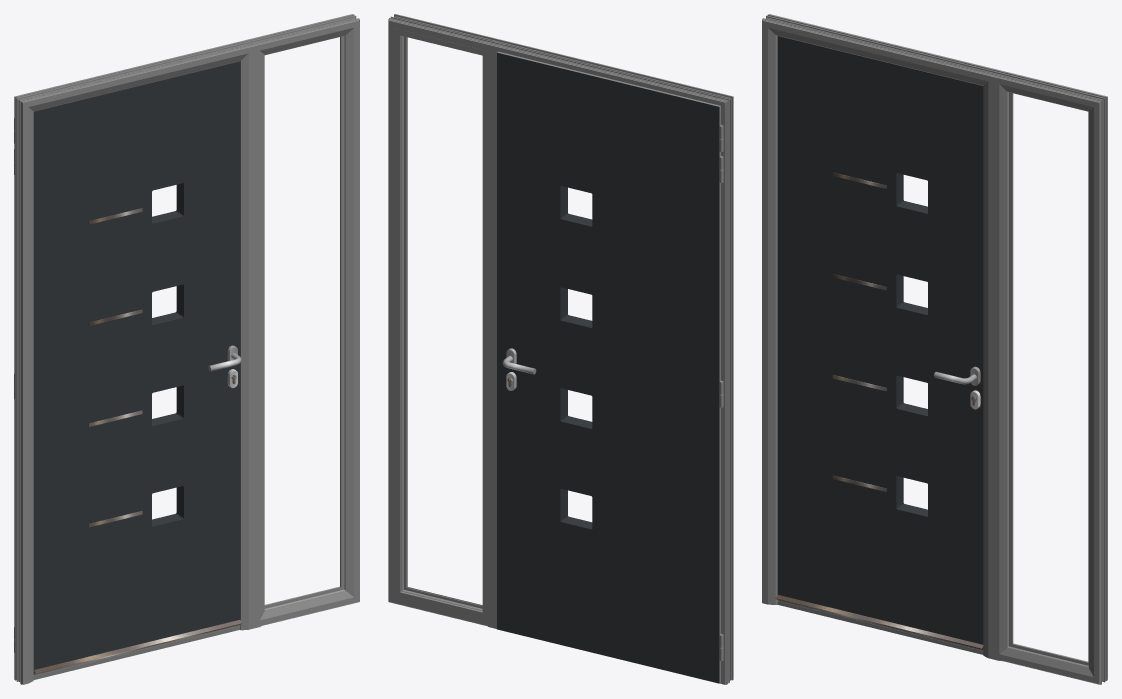
3 views of the same model, side by side, from view 1: azimuth 30°, elevation 25°; view 2: azimuth 150°, elevation 25°; view 3: azimuth 330°, elevation 25° (orthographic).
Visible parts, largest first — view 1: bloco_109, Rectangle002, Line004, Object, Object001, Line005, alunox_066, Rectangle005, Rectangle003; view 2: bloco_109, Rectangle002, Rectangle003, Line004, Object001, Rectangle004, Object; view 3: bloco_109, Rectangle002, Line004, Object001, Object, Line005, Rectangle003, alunox_066, Rectangle005.
Boxes of the visible parts, <box> form: bloco_109: <box>33,61,240,671</box>; Rectangle002: <box>14,14,359,684</box>; Line004: <box>240,46,264,630</box>; Object: <box>33,35,346,680</box>; Object001: <box>264,36,344,608</box>; Line005: <box>33,620,242,674</box>; alunox_066: <box>88,208,142,527</box>; Rectangle005: <box>33,625,240,679</box>; Rectangle003: <box>264,37,340,605</box>; bloco_109: <box>497,52,719,683</box>; Rectangle002: <box>388,14,733,684</box>; Rectangle003: <box>394,28,487,619</box>; Line004: <box>488,41,504,628</box>; Object001: <box>401,36,482,610</box>; Rectangle004: <box>496,51,720,683</box>; Object: <box>404,36,482,608</box>; bloco_109: <box>777,36,983,644</box>; Rectangle002: <box>762,14,1107,684</box>; Line004: <box>983,77,1007,661</box>; Object001: <box>1007,92,1088,665</box>; Object: <box>776,35,1088,667</box>; Line005: <box>775,595,983,649</box>; Rectangle003: <box>1012,93,1087,662</box>; alunox_066: <box>832,172,886,491</box>; Rectangle005: <box>777,600,983,654</box>.
Bounding box in the file's own units: 1307 × 2150 × 192.
7 materials, 4 textured.
